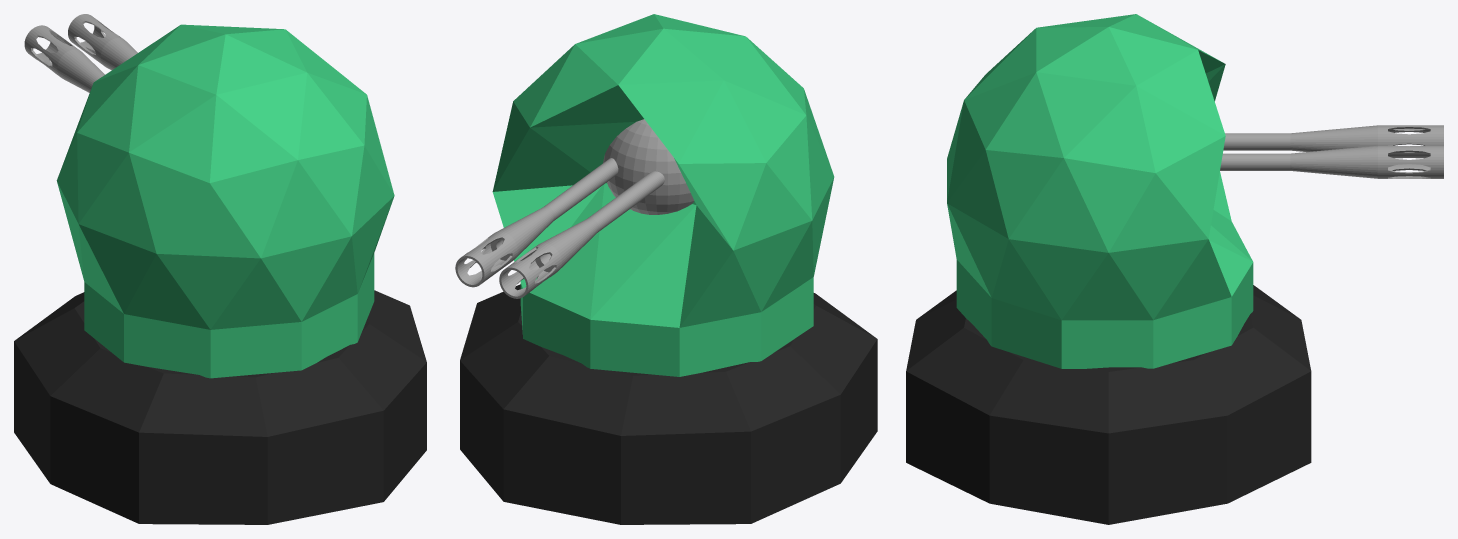
Rendered from Lvl 2 Basic Turret.fbx.
3 renders of one model, left to right at view 1: azimuth 30°, elevation 25°; view 2: azimuth 150°, elevation 25°; view 3: azimuth 270°, elevation 25°, orthographic.
Visible parts, largest first — view 1: Icosphere.002, Icosphere.001, Plane|Cylinder.001|Dupli|, Plane|Cylinder.001|Dupli|1; view 2: Icosphere.002, Icosphere.001, Sphere.001, Plane|Cylinder.001|Dupli|, Plane|Cylinder.001|Dupli|1; view 3: Icosphere.002, Icosphere.001, Plane|Cylinder.001|Dupli|1, Plane|Cylinder.001|Dupli|.
Part boxes in pixels (<box>): Icosphere.002: <box>56,24,394,378</box>; Icosphere.001: <box>14,290,426,524</box>; Plane|Cylinder.001|Dupli|: <box>24,25,104,92</box>; Plane|Cylinder.001|Dupli|1: <box>68,14,137,70</box>; Icosphere.002: <box>492,14,834,376</box>; Icosphere.001: <box>460,284,877,524</box>; Sphere.001: <box>603,119,694,214</box>; Plane|Cylinder.001|Dupli|: <box>499,171,664,298</box>; Plane|Cylinder.001|Dupli|1: <box>455,158,618,287</box>; Icosphere.002: <box>947,14,1253,368</box>; Icosphere.001: <box>906,285,1311,524</box>; Plane|Cylinder.001|Dupli|1: <box>1220,145,1443,178</box>; Plane|Cylinder.001|Dupli|: <box>1223,125,1443,158</box>.
Size of the model in its own units: 244 by 265 by 316.
